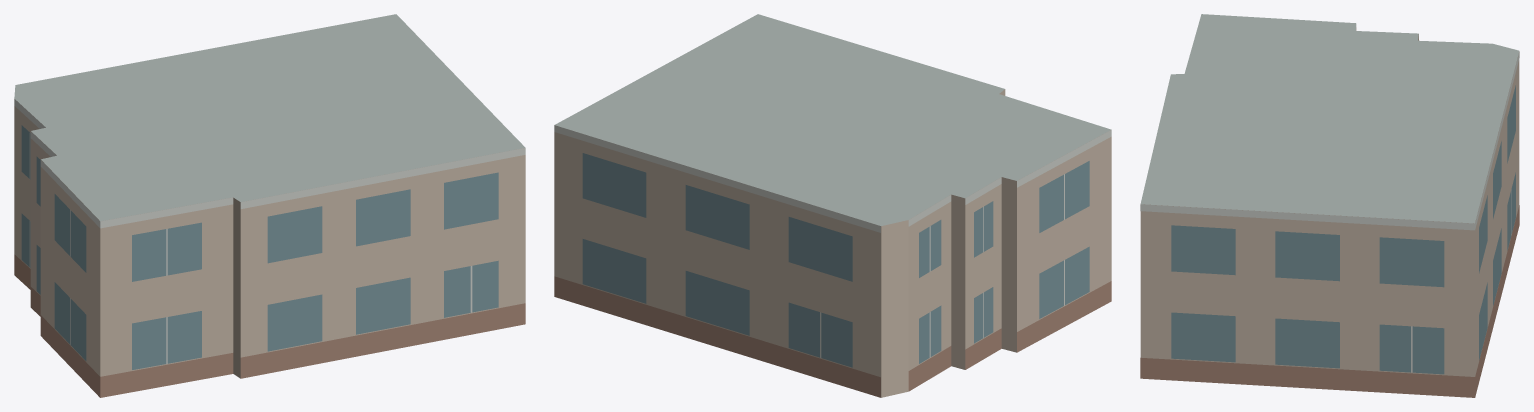
Rendered from survey-upis-32670311.glb.
3 views of the same model, side by side, from view 1: azimuth 30°, elevation 25°; view 2: azimuth 150°, elevation 25°; view 3: azimuth 270°, elevation 25° (orthographic). The views are drawn at different scales.
Visible parts, largest first — view 1: survey-upis-32670311.tmp; view 2: survey-upis-32670311.tmp; view 3: survey-upis-32670311.tmp.
Part boxes in pixels (left/top/right/bottom): survey-upis-32670311.tmp: left=14, top=14, right=525, bottom=397; survey-upis-32670311.tmp: left=554, top=14, right=1111, bottom=397; survey-upis-32670311.tmp: left=1140, top=14, right=1519, bottom=397.
Bounding box in the file's own units: 15.72 × 6.1 × 12.03.
